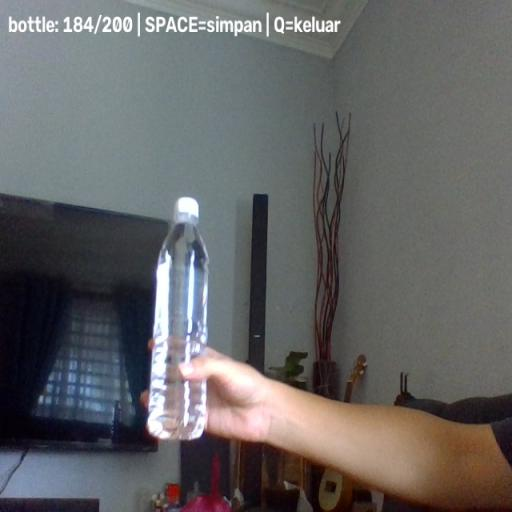Bottle: (147, 198, 211, 440)
